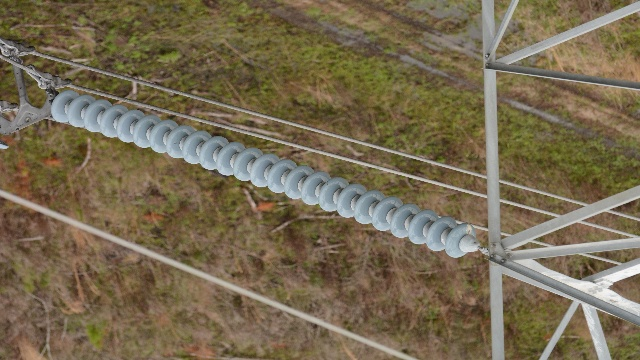insulator_unspecified: (50, 90, 475, 258)
pollution_flashover_local: (467, 223, 473, 235)
